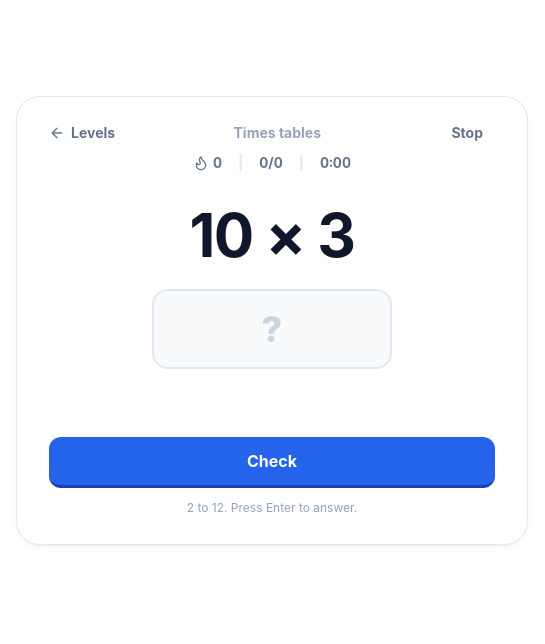
Test: stopping › shows the sitting summary
Type "30" into the field named "Answer for " at [272, 329], box x1=154 y1=309 x2=390 y2=349
Press Enter in the field named "Answer for ", box x1=154 y1=309 x2=390 y2=349
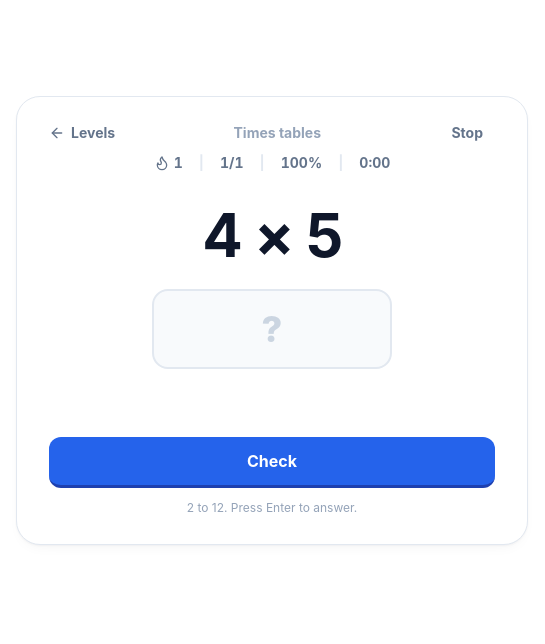
Type "20" into the field named "Answer for " at [272, 329], box x1=154 y1=309 x2=390 y2=349
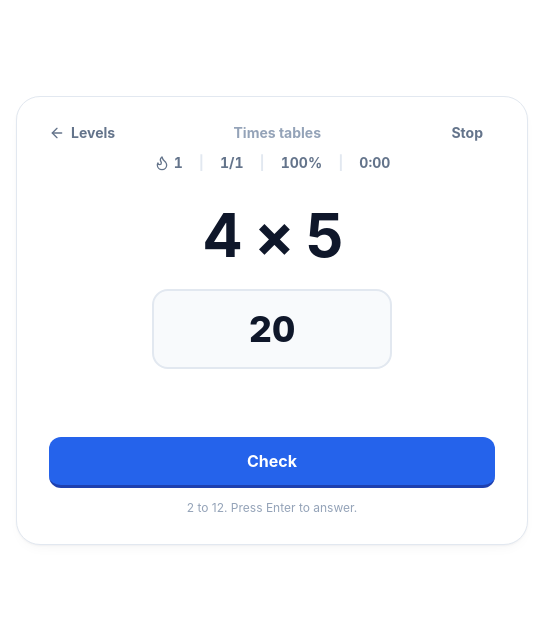
Press Enter in the field named "Answer for ", box x1=154 y1=309 x2=390 y2=349
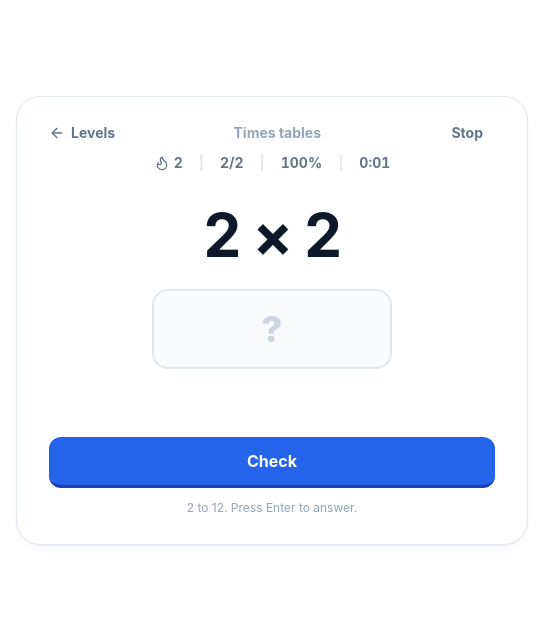
Type "4" into the field named "Answer for " at [272, 329], box x1=154 y1=309 x2=390 y2=349
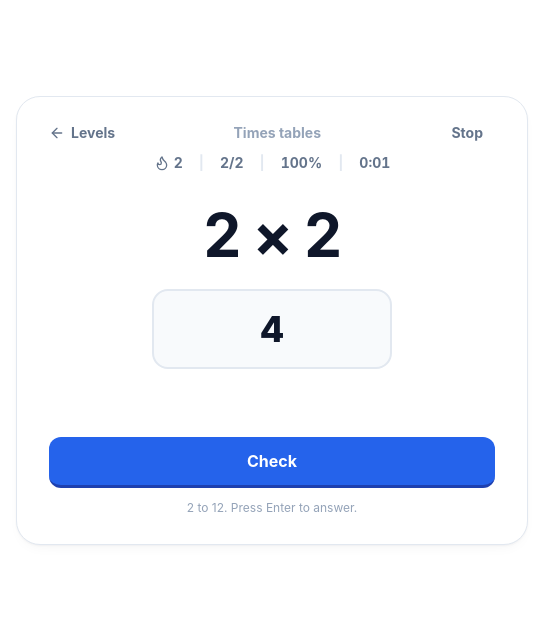
Press Enter in the field named "Answer for ", box x1=154 y1=309 x2=390 y2=349
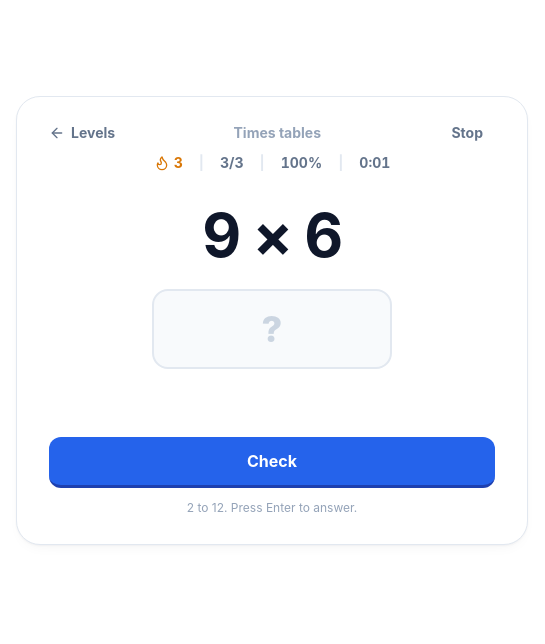
Click the button "Stop" at [467, 133], box x1=439 y1=123 x2=495 y2=143
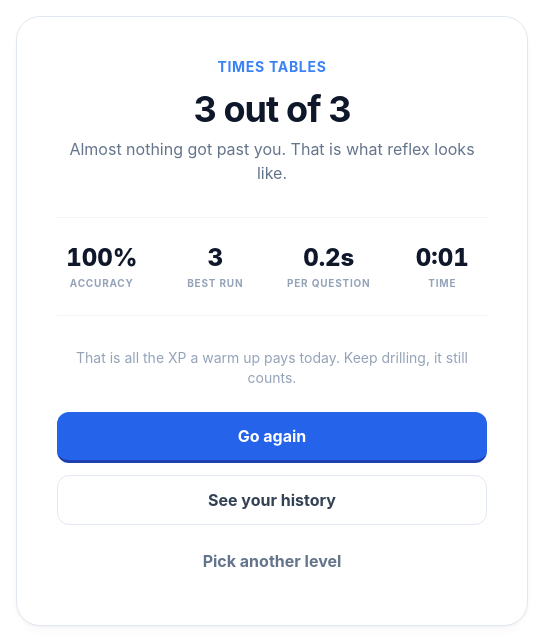
Expected: the heading "3 out of 3" is shown, x1=193 y1=86 x2=351 y2=130
Expected: the text "Accuracy" is shown, x1=70 y1=276 x2=134 y2=288
Expected: the text "Best run" is shown, x1=187 y1=276 x2=243 y2=288
